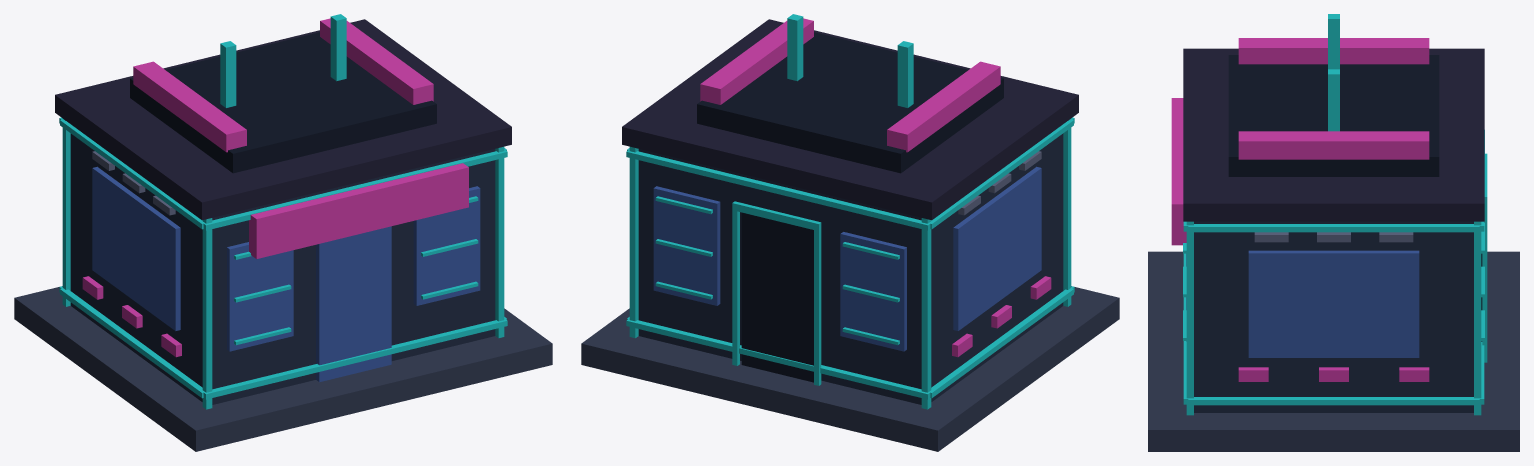
The model's file is Neon_ArcadeKiosk_Showcase.glb.
3 renders of one model, left to right at view 1: azimuth 30°, elevation 25°; view 2: azimuth 150°, elevation 25°; view 3: azimuth 270°, elevation 25°, orthographic. The views are drawn at different scales.
Parts seen in each view (by area): view 1: Neon_ArcadeKiosk_Showcase; view 2: Neon_ArcadeKiosk_Showcase; view 3: Neon_ArcadeKiosk_Showcase.
Part boxes in pixels (x1,y1,x2,y2): Neon_ArcadeKiosk_Showcase: (14, 14, 552, 451); Neon_ArcadeKiosk_Showcase: (581, 14, 1119, 451); Neon_ArcadeKiosk_Showcase: (1148, 14, 1519, 451).
Size of the model in its own units: 4.2 by 3.5 by 3.7.
